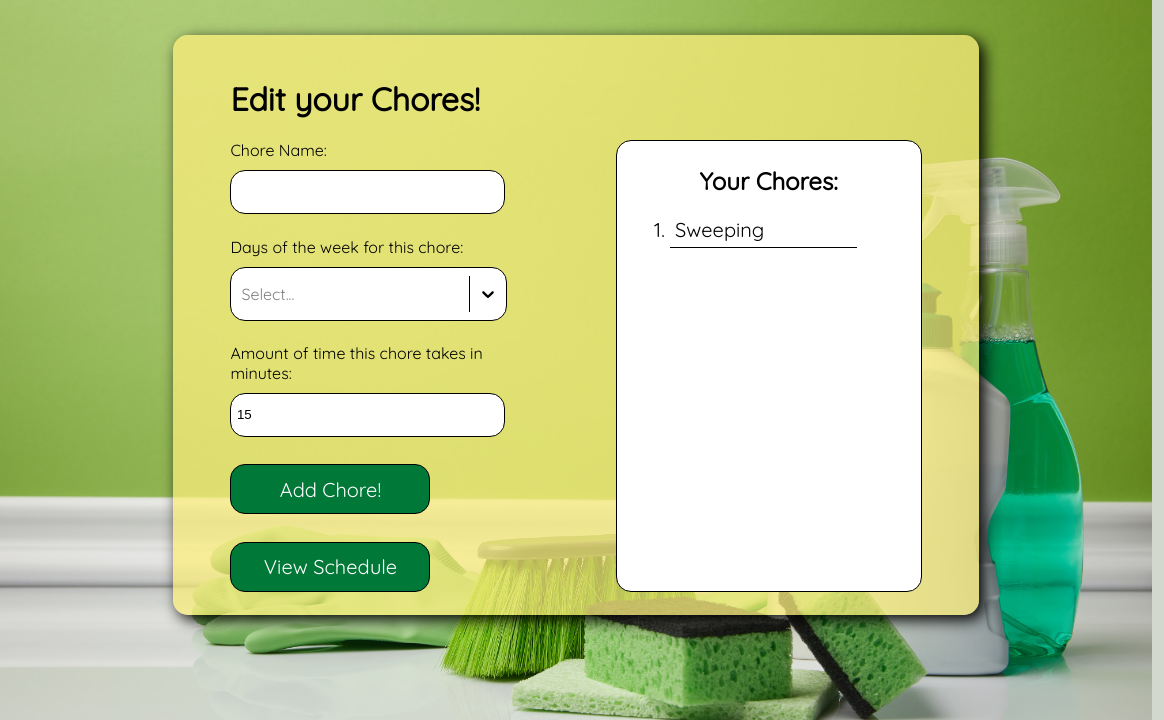
Chore Form › should allow user to add chore to list
Expected: the number of list items is 1, [670,212,857,247]
Type "Mopping" into the field labelled "Chore Name:" at (368, 193), box [230,171,505,215]
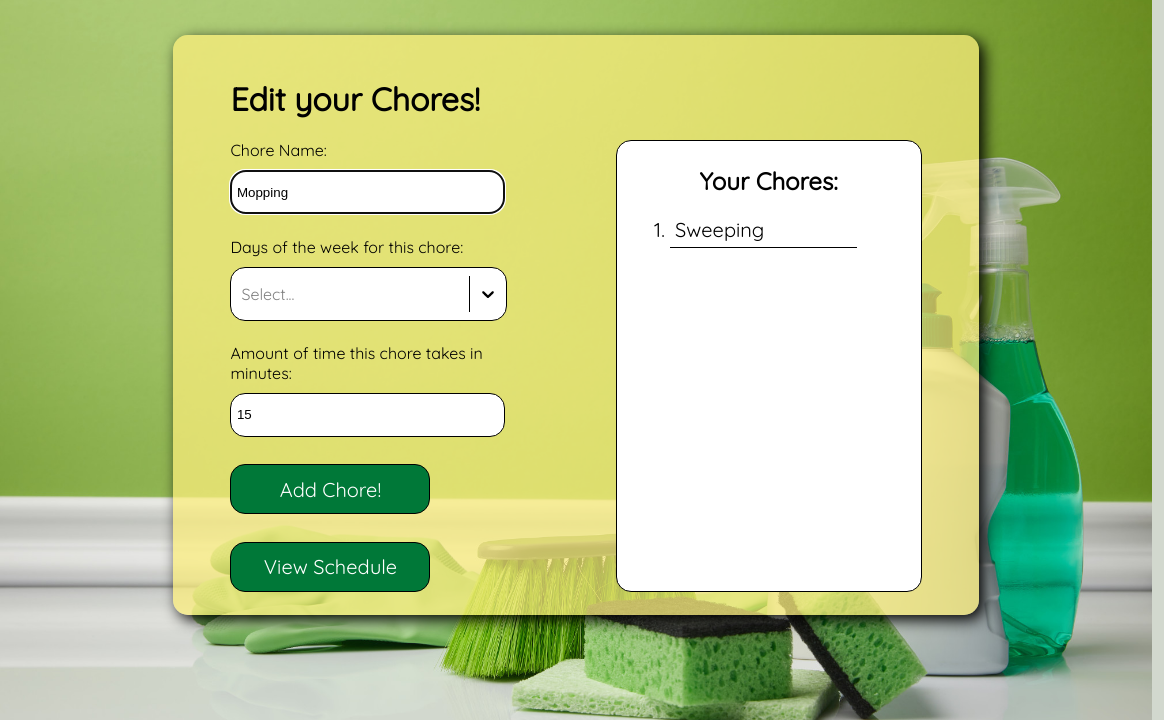
Click the element with class "select-control" at (369, 294), box [230,267,507,321]
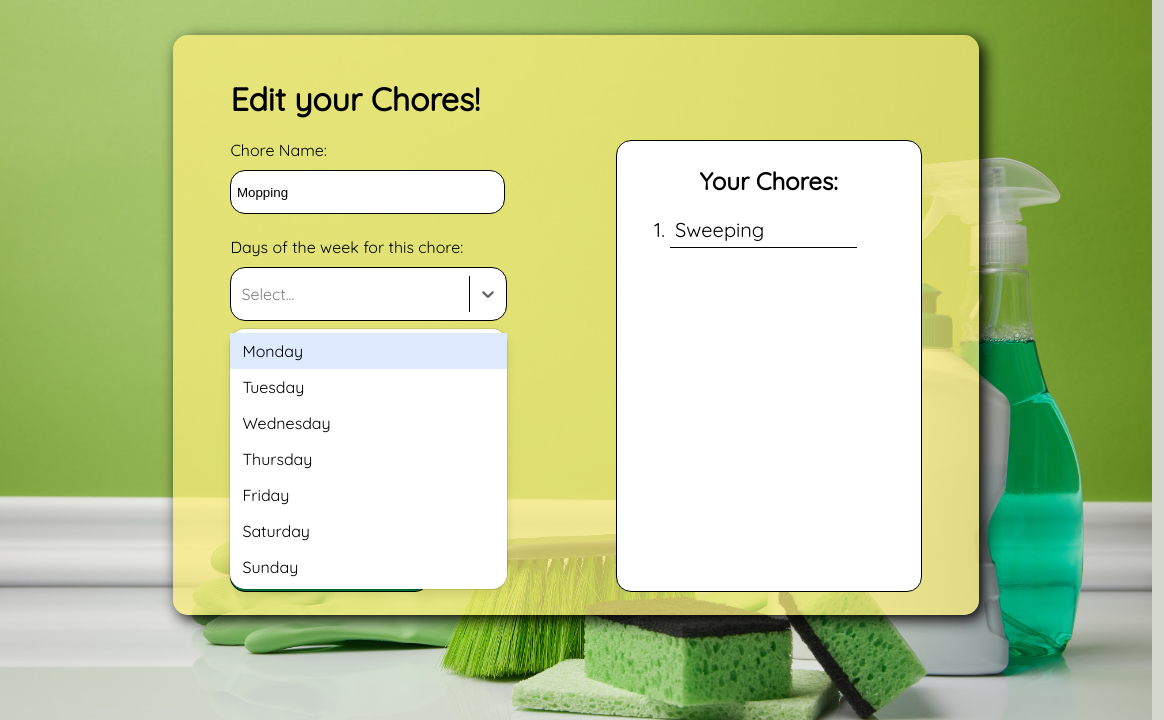
Click the option with id "react-select-2-option-1" at (273, 387), box [242,377,304,397]
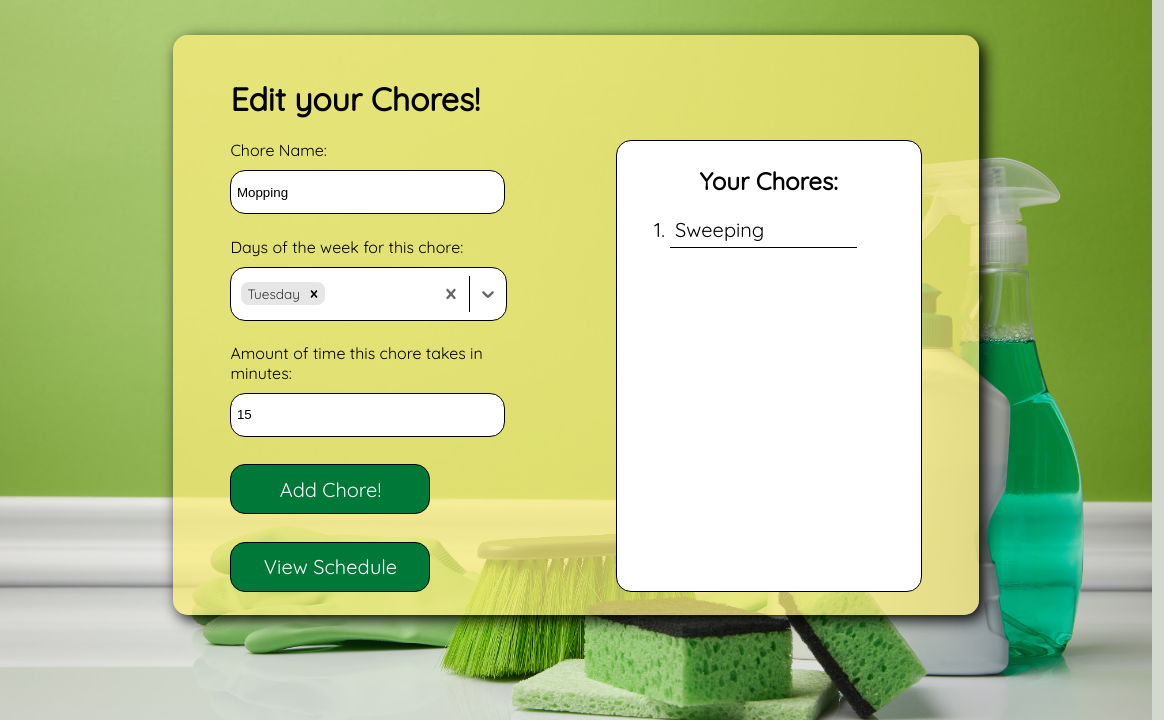
Click the button with class "chore-btn" at (330, 489), box [230,464,430,514]
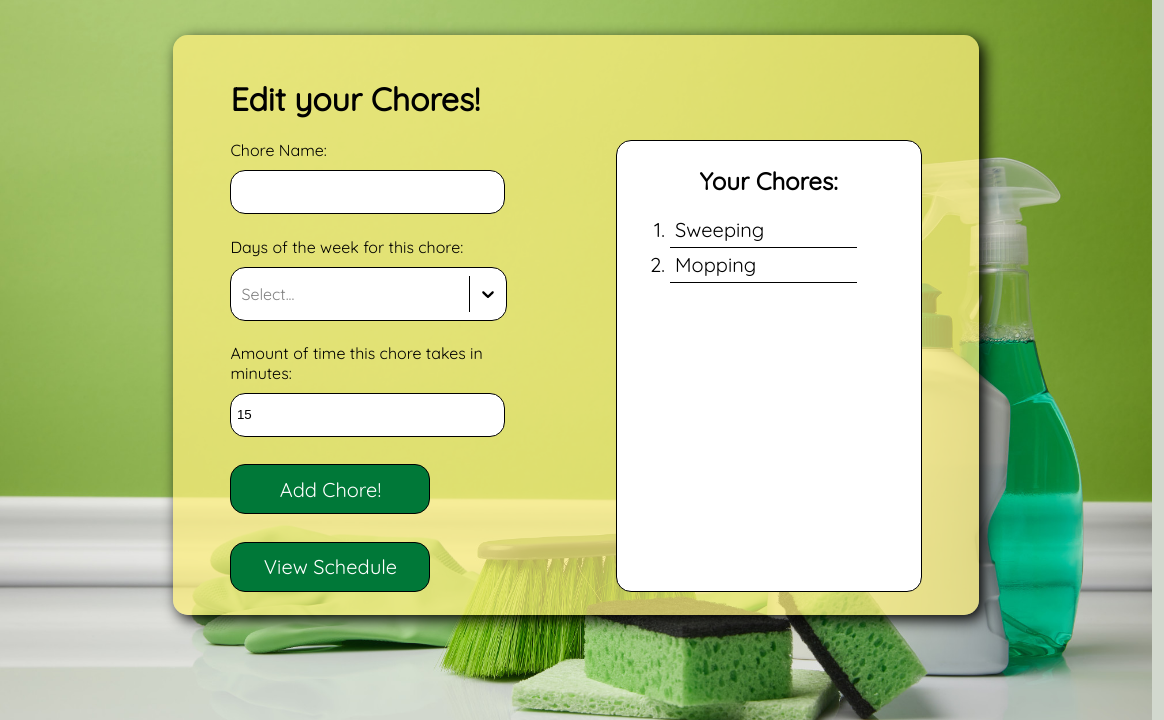
Expected: the number of list items is 2, [670,212,857,248]; [670,248,857,283]
